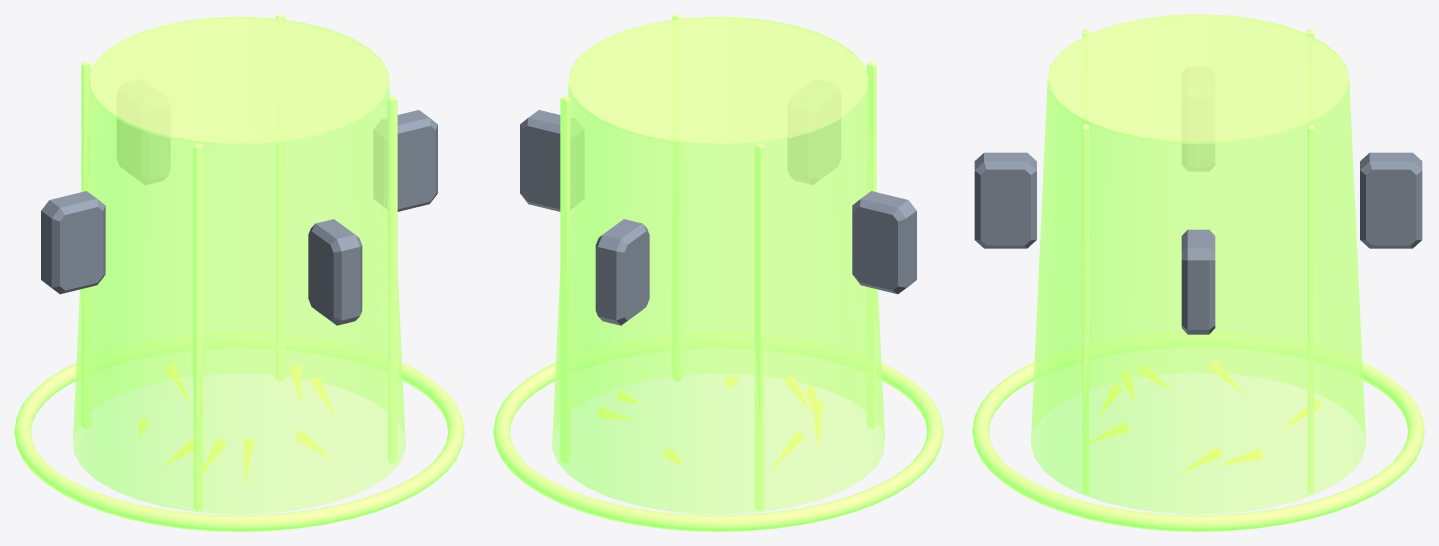
File: vfx_tower_place.glb
3 views of the same model, side by side, from view 1: azimuth 30°, elevation 25°; view 2: azimuth 150°, elevation 25°; view 3: azimuth 270°, elevation 25° (orthographic).
Parts seen in each view (by area): view 1: place_holo, place_holo_cap, place_ring, place_clamp2, place_clamp1, place_clamp0, place_edge1, place_edge0, place_edge2, place_clamp3, place_edge3, place_sparks; view 2: place_holo, place_holo_cap, place_ring, place_clamp2, place_clamp3, place_clamp0, place_edge2, place_edge3, place_edge1, place_clamp1, place_edge0, place_sparks; view 3: place_holo, place_holo_cap, place_ring, place_clamp1, place_clamp3, place_clamp0, place_edge0, place_edge3, place_sparks, place_clamp2.
Boxes of the visible parts, box(x1,y1,x2,y2) form: place_holo: box(73, 80, 405, 514); place_holo_cap: box(89, 16, 389, 145); place_ring: box(14, 332, 464, 531); place_clamp2: box(41, 191, 105, 294); place_clamp1: box(308, 219, 362, 325); place_clamp0: box(374, 110, 437, 211); place_edge1: box(193, 143, 203, 510); place_edge0: box(387, 96, 397, 463); place_edge2: box(81, 61, 91, 428); place_clamp3: box(117, 119, 169, 184); place_edge3: box(275, 14, 285, 381); place_sparks: box(138, 363, 335, 484); place_holo: box(552, 80, 884, 514); place_holo_cap: box(568, 16, 868, 145); place_ring: box(493, 332, 943, 531); place_clamp2: box(852, 191, 916, 294); place_clamp3: box(595, 219, 649, 325); place_clamp0: box(520, 110, 583, 211); place_edge2: box(754, 143, 764, 510); place_edge3: box(560, 96, 570, 463); place_edge1: box(866, 61, 876, 428); place_clamp1: box(788, 119, 840, 184); place_edge0: box(672, 14, 682, 381); place_sparks: box(597, 376, 823, 470); place_holo: box(1031, 80, 1365, 514); place_holo_cap: box(1047, 14, 1349, 143); place_ring: box(972, 332, 1424, 531); place_clamp1: box(974, 152, 1036, 248); place_clamp3: box(1360, 152, 1422, 248); place_clamp0: box(1181, 229, 1215, 334); place_edge0: box(1082, 124, 1089, 493); place_edge3: box(1307, 124, 1314, 493); place_sparks: box(1089, 360, 1321, 474); place_clamp2: box(1182, 144, 1214, 170).
Size of the model in its own units: 2.7 by 2.42 by 2.7.
